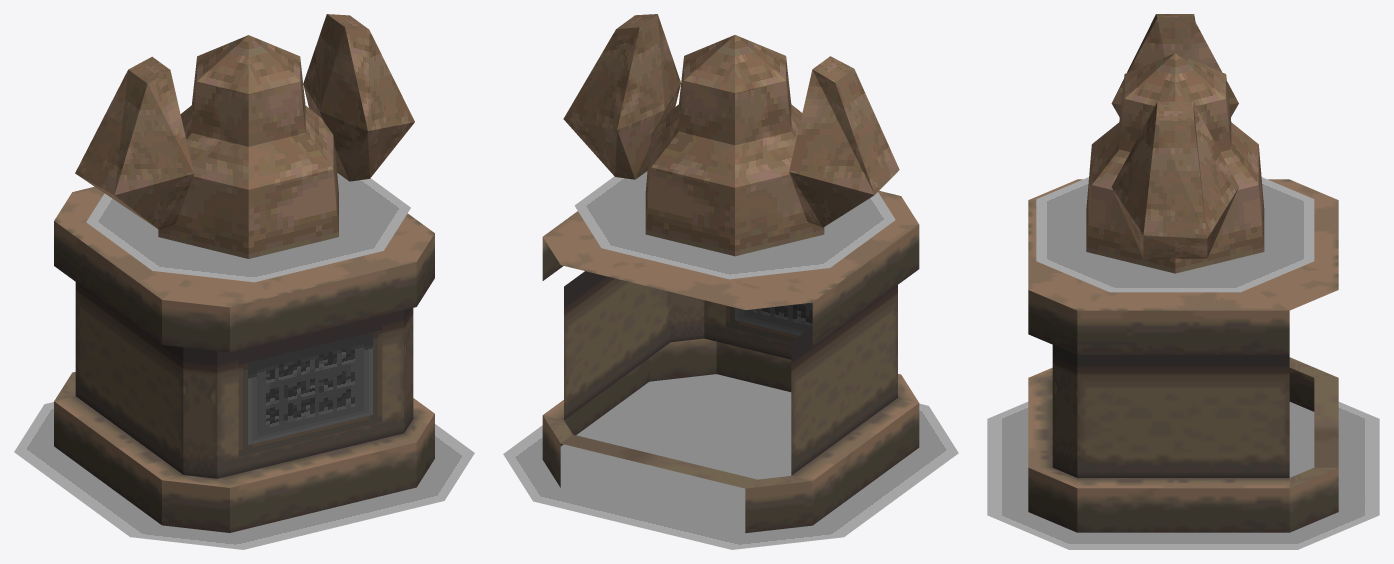
The picture shows the model from 3 angles, left to right: view 1: azimuth 30°, elevation 25°; view 2: azimuth 150°, elevation 25°; view 3: azimuth 270°, elevation 25°; orthographic projection.
Parts seen in each view (by area): view 1: polygon2, polygon0, polygon1, polygon3; view 2: polygon2, polygon0, polygon1, polygon3; view 3: polygon2, polygon0, polygon1.
Part boxes in pixels (x1,y1,x2,y2): polygon2: [54, 186, 434, 532]; polygon0: [75, 14, 414, 258]; polygon1: [14, 173, 474, 549]; polygon3: [238, 320, 382, 456]; polygon2: [542, 190, 919, 533]; polygon0: [563, 14, 899, 256]; polygon1: [503, 171, 958, 549]; polygon3: [726, 302, 812, 342]; polygon2: [1028, 179, 1338, 532]; polygon0: [1086, 14, 1264, 273]; polygon1: [987, 177, 1379, 549].
Bounding box in the file's own units: 6 × 6.99 × 6.
